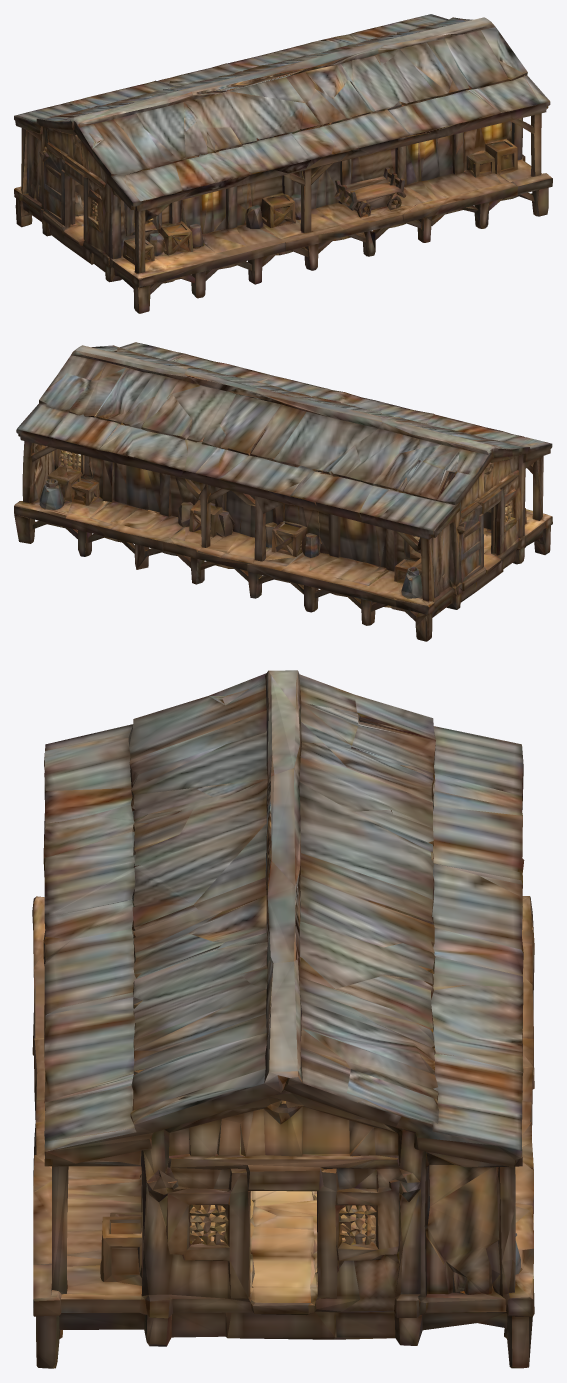
Rendered from depot_1x2.glb.
3 renders of one model, top to bottom at view 1: azimuth 30°, elevation 25°; view 2: azimuth 150°, elevation 25°; view 3: azimuth 270°, elevation 25°, orthographic. The views are drawn at different scales.
Visible parts, largest first — view 1: normalize; view 2: normalize; view 3: normalize.
Boxes of the visible parts, bbox=[...] form: normalize: bbox=[14, 14, 552, 313]; normalize: bbox=[14, 342, 552, 641]; normalize: bbox=[32, 670, 534, 1368].
Size of the model in its own units: 1 by 0.3444 by 0.5166.
1 material, 1 textured.
